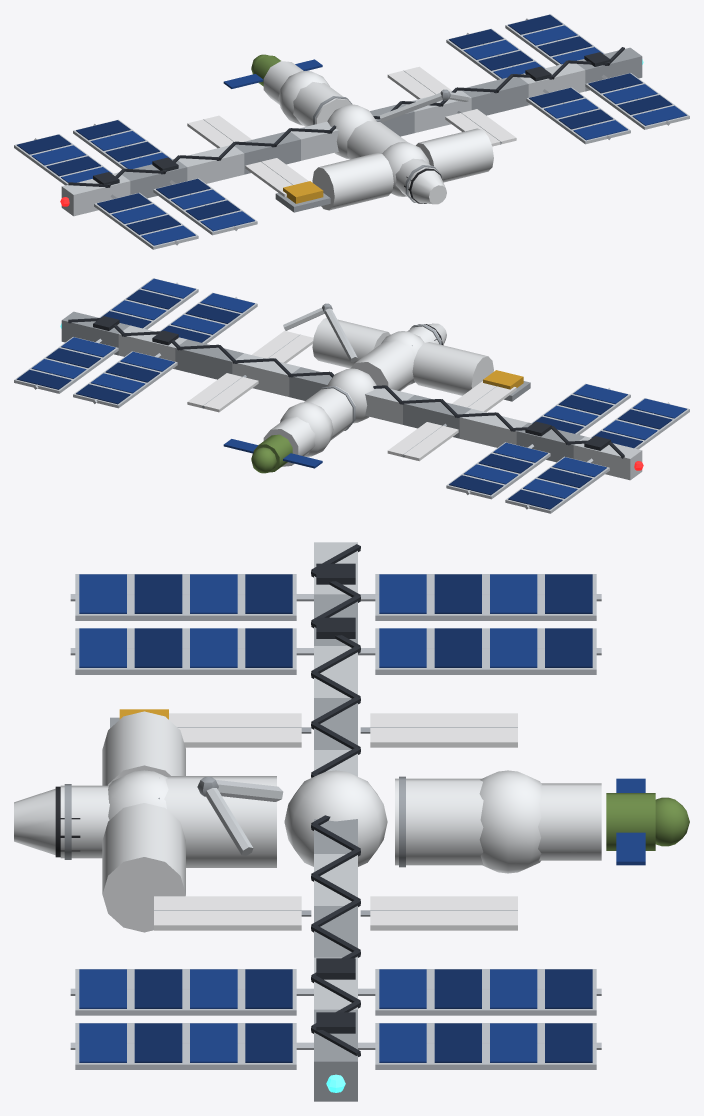
File: space_station.glb
3 views of the same model, one above another, from view 1: azimuth 30°, elevation 25°; view 2: azimuth 150°, elevation 25°; view 3: azimuth 270°, elevation 25° (orthographic). The views are drawn at different scales.
Visible parts, largest first — view 1: body, arrays; view 2: body, arrays; view 3: body, arrays.
Boxes of the visible parts, x1,y1,x2,y2 form: body: (60, 47, 643, 216); arrays: (14, 14, 689, 249); body: (60, 303, 643, 480); arrays: (14, 278, 689, 513); body: (14, 542, 689, 1101); arrays: (70, 563, 601, 1069).
Size of the model in its own units: 256 by 32.7 by 138.
